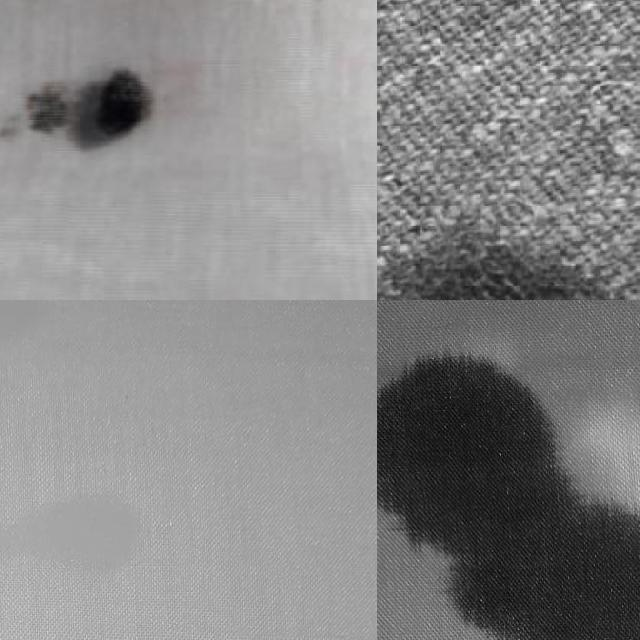Thread_other: (377, 322, 640, 640)
